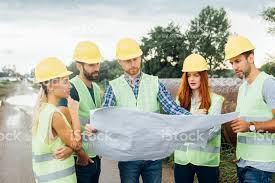helmet: (33, 58, 71, 83), (113, 36, 146, 59), (74, 40, 103, 64), (224, 35, 254, 58), (182, 52, 208, 72)
vest: (111, 75, 163, 157), (174, 93, 226, 166), (31, 105, 78, 183), (235, 82, 275, 168), (72, 81, 103, 161)
